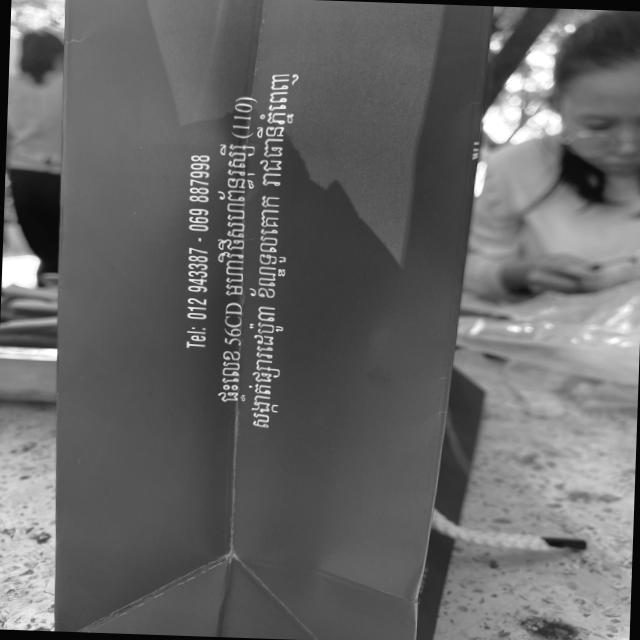1: (244, 67, 311, 433)
Yolov11_80vkh: (213, 141, 258, 300), (215, 347, 249, 406)
